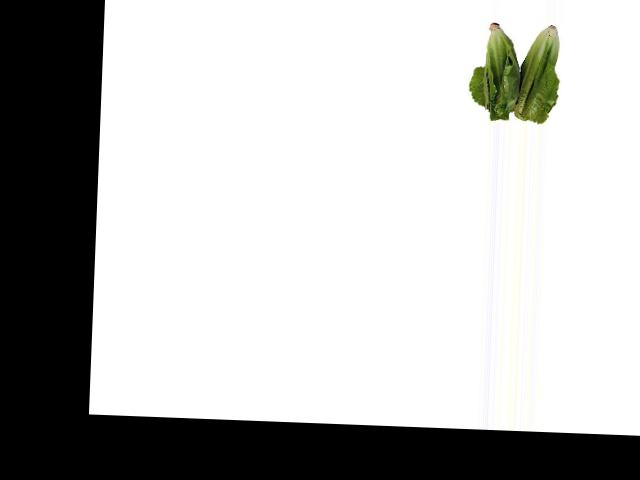lettuce: (477, 21, 566, 124)
